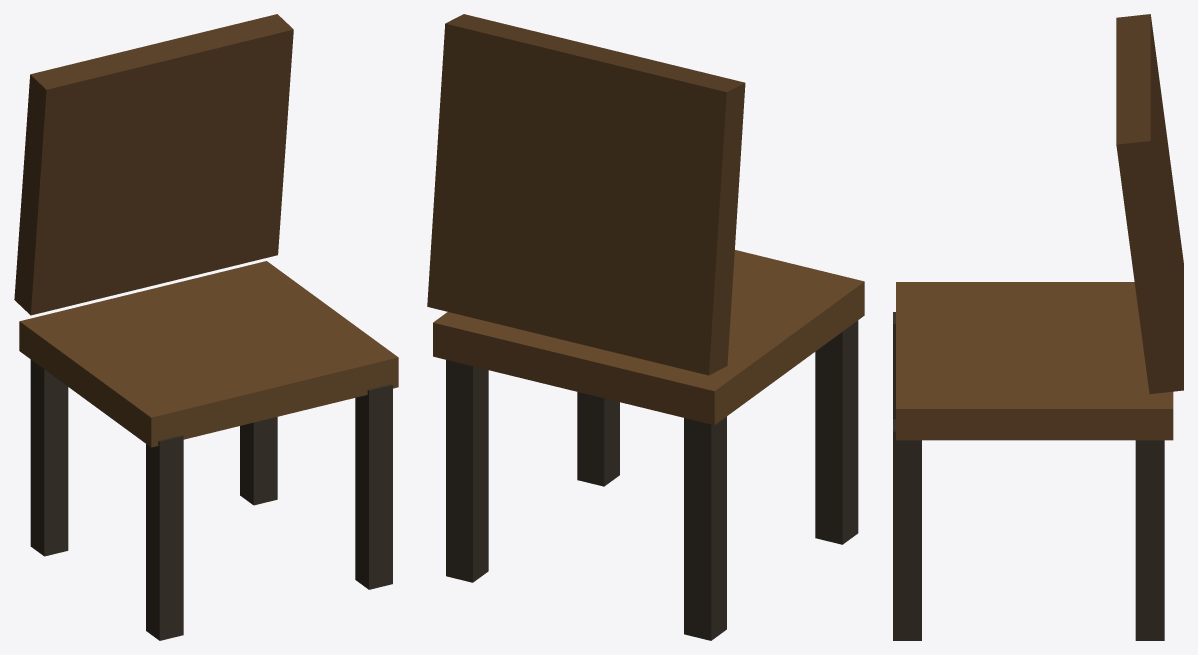
The model's file is camp-chair.glb.
The picture shows the model from 3 angles, left to right: view 1: azimuth 30°, elevation 25°; view 2: azimuth 150°, elevation 25°; view 3: azimuth 270°, elevation 25°; orthographic projection. The views are drawn at different scales.
Parts seen in each view (by area): view 1: camp-chair; view 2: camp-chair; view 3: camp-chair.
Boxes of the visible parts, box(x1,y1,x2,y2) form: camp-chair: box(14, 14, 398, 640); camp-chair: box(427, 14, 864, 640); camp-chair: box(893, 14, 1183, 640).
Size of the model in its own units: 0.52 by 0.9619 by 0.5035.
